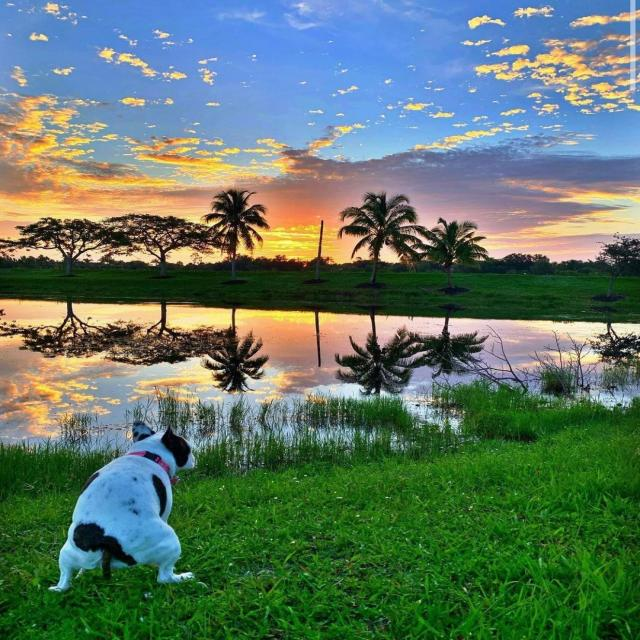squatting: (34, 413, 218, 597)
